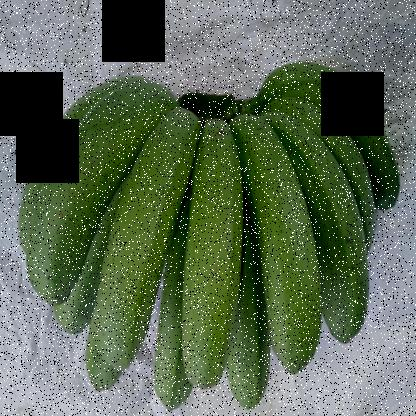unripe: (20, 72, 160, 310), (89, 101, 192, 362), (229, 122, 326, 394), (169, 107, 252, 388), (299, 104, 373, 369)
